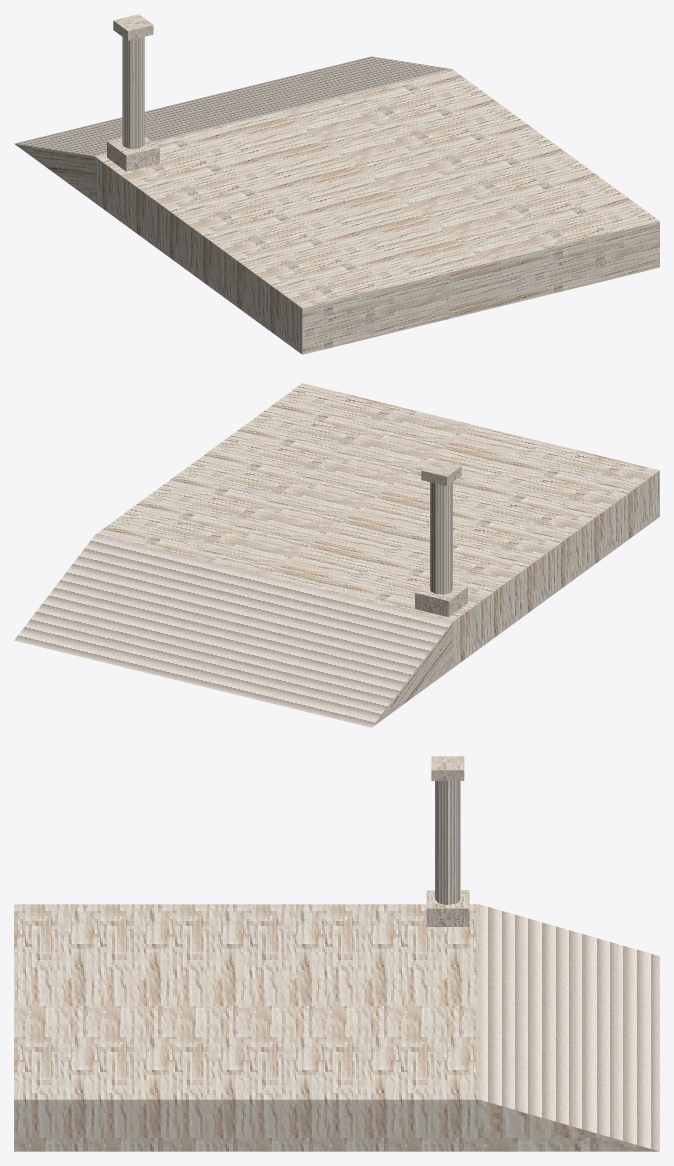
Rendered from coluseum.glb.
3 renders of one model, top to bottom at view 1: azimuth 30°, elevation 25°; view 2: azimuth 150°, elevation 25°; view 3: azimuth 270°, elevation 25°, orthographic. The views are drawn at different scales.
Visible parts, largest first — view 1: Cube, Cylinder; view 2: Cube, Cylinder; view 3: Cube, Cylinder.
Boxes of the visible parts, x1,y1,x2,y2 form: Cube: (14,56,659,354); Cylinder: (107,14,159,171); Cube: (14,383,659,727); Cylinder: (415,459,467,617); Cube: (14,904,659,1151); Cylinder: (426,756,469,926).
Size of the model in its own units: 18.8 by 9.26 by 26.27.
2 materials, 2 textured.
